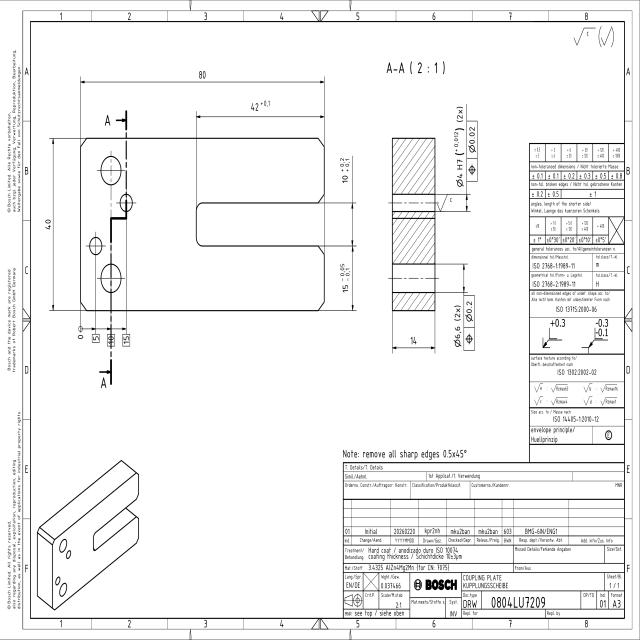dimension: (452, 104, 466, 189), (452, 303, 463, 349), (338, 156, 351, 184), (249, 99, 272, 113), (341, 262, 351, 294), (106, 332, 115, 348), (198, 68, 207, 82), (122, 333, 131, 347), (44, 217, 52, 231), (91, 332, 100, 344), (409, 334, 417, 347)
